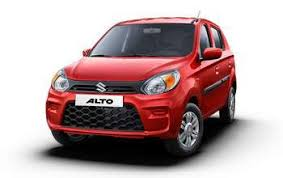car: (36, 10, 256, 173)
